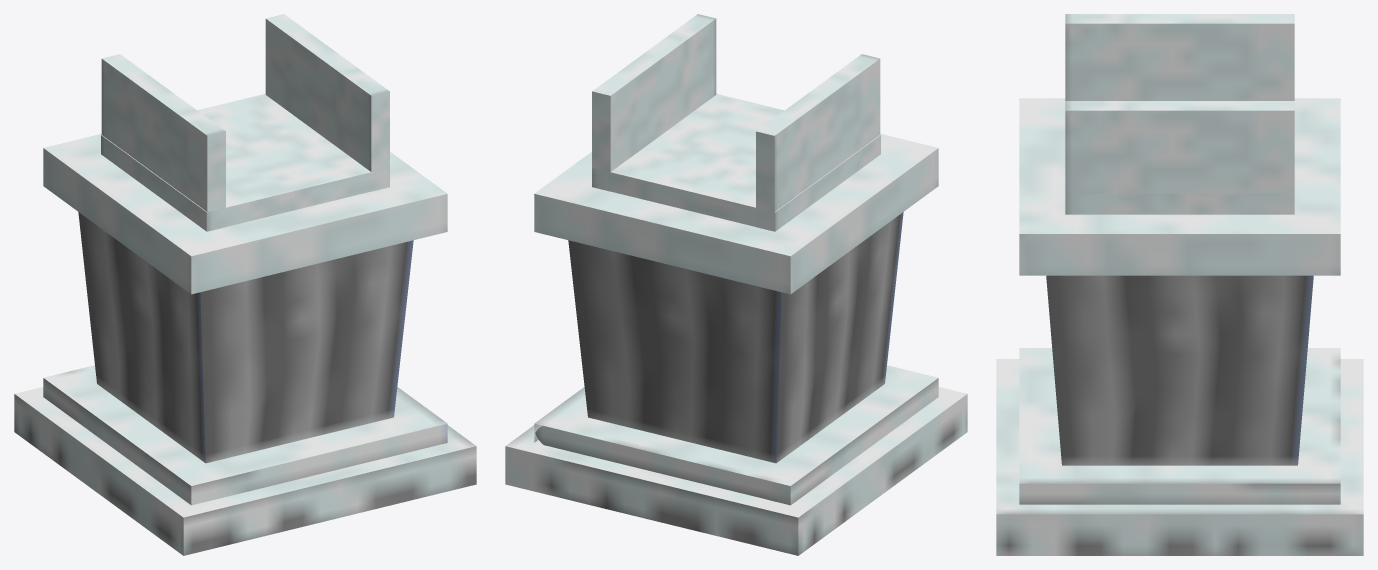
The model's file is trashPillar.obj.
The picture shows the model from 3 angles, left to right: view 1: azimuth 30°, elevation 25°; view 2: azimuth 150°, elevation 25°; view 3: azimuth 270°, elevation 25°; orthographic projection. The views are drawn at different scales.
Parts seen in each view (by area): view 1: TrashPillar, DoorsOpen, DoorsClosed; view 2: TrashPillar, DoorsOpen, DoorsClosed; view 3: TrashPillar, DoorsOpen, DoorsClosed.
Part boxes in pixels (x1,y1,x2,y2): TrashPillar: [14, 93, 476, 555]; DoorsOpen: [101, 14, 389, 231]; DoorsClosed: [101, 95, 389, 231]; TrashPillar: [505, 93, 967, 555]; DoorsOpen: [592, 14, 880, 231]; DoorsClosed: [592, 95, 880, 231]; TrashPillar: [996, 98, 1363, 555]; DoorsOpen: [1065, 14, 1294, 193]; DoorsClosed: [1065, 193, 1294, 214].
Size of the model in its own units: 39.37 by 49.21 by 39.37.
